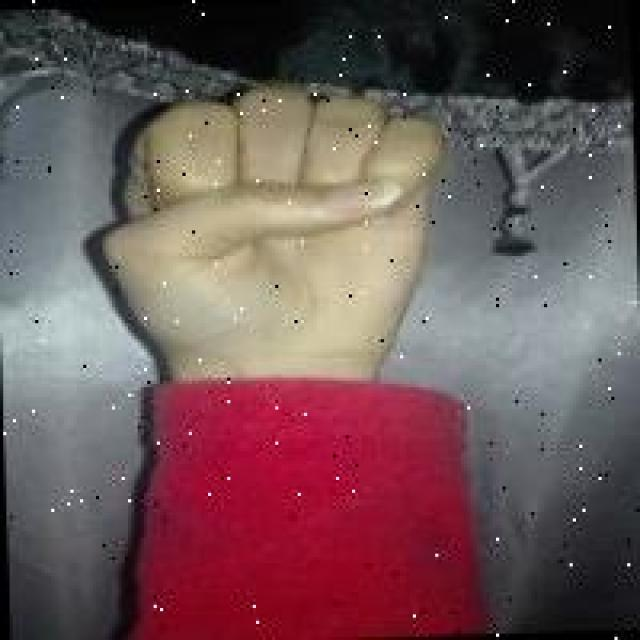E: (82, 77, 459, 374)
